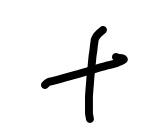plus: (39, 28, 123, 123)
